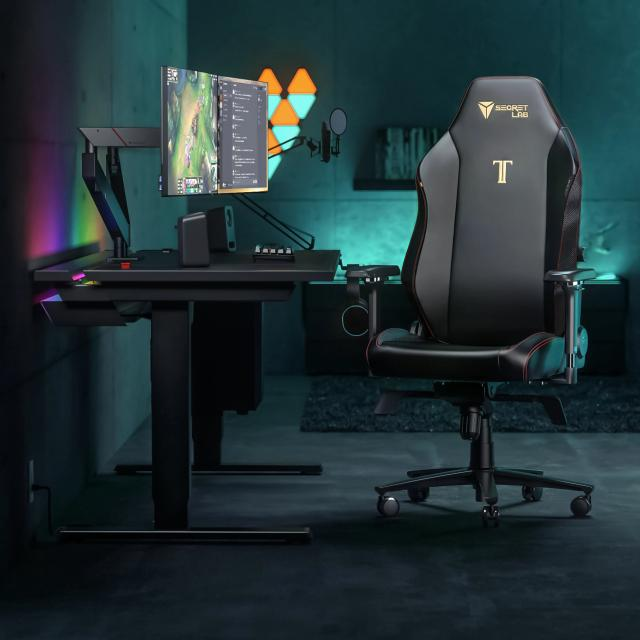Chair: (334, 67, 601, 529)
